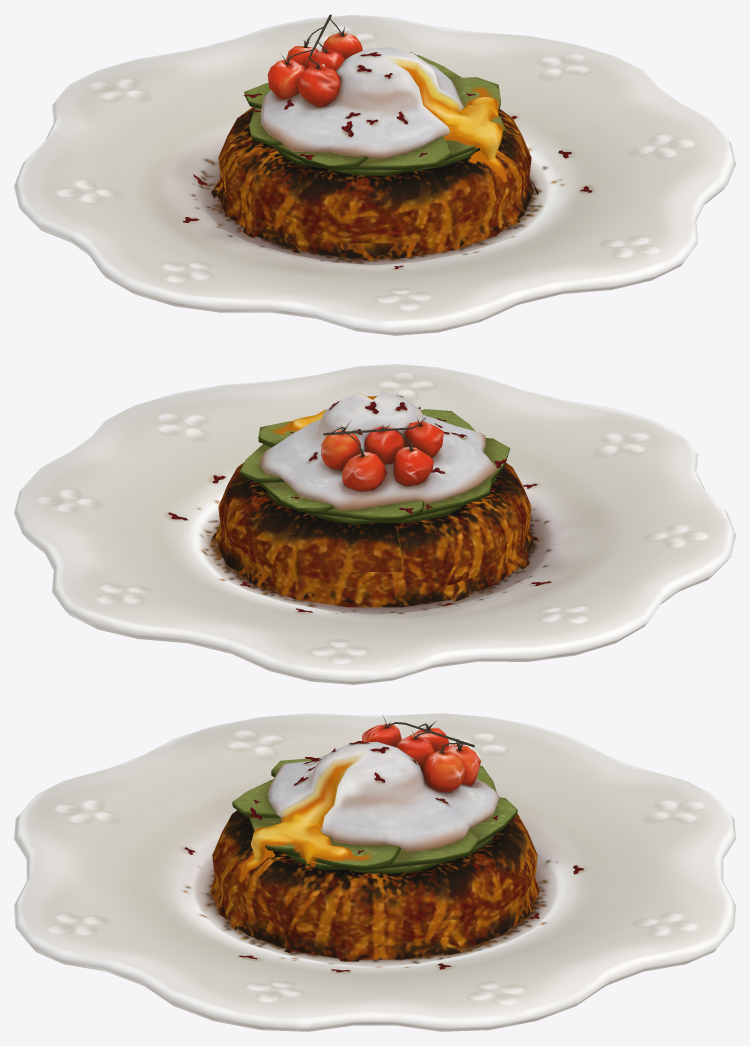
Rendered from low-poly_food_gourmet_breakfast.glb.
3 renders of one model, top to bottom at view 1: azimuth 30°, elevation 25°; view 2: azimuth 150°, elevation 25°; view 3: azimuth 270°, elevation 25°, orthographic. The views are drawn at different scales.
Parts seen in each view (by area): view 1: Food_01; view 2: Food_01; view 3: Food_01.
Part boxes in pixels (x1,y1,x2,y2): Food_01: [14, 14, 735, 335]; Food_01: [14, 364, 735, 684]; Food_01: [14, 713, 735, 1031].
Bounding box in the file's own units: 1.01 × 0.2463 × 0.9911.
1 material, 1 textured.
